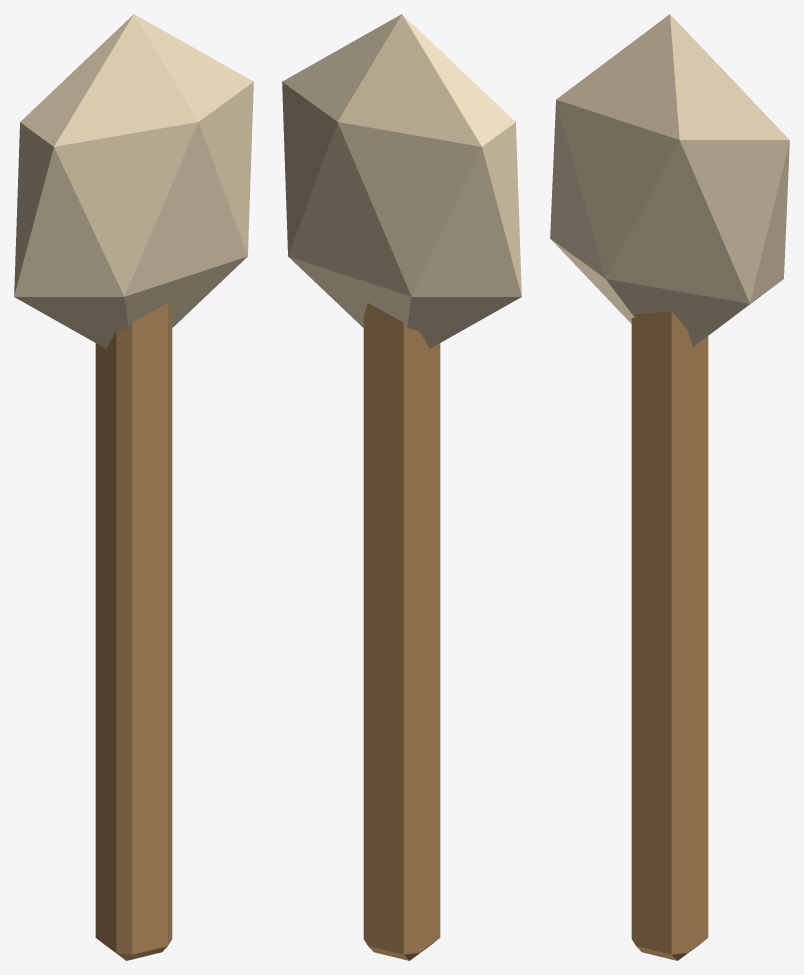
File: SM_CH_Paper_Utensil.fbx
The picture shows the model from 3 angles, left to right: view 1: azimuth 30°, elevation 25°; view 2: azimuth 150°, elevation 25°; view 3: azimuth 330°, elevation 25°; orthographic projection.
Parts seen in each view (by area): view 1: SM_CH_Paper_Utensil; view 2: SM_CH_Paper_Utensil; view 3: SM_CH_Paper_Utensil.
Boxes of the visible parts, <box> form: SM_CH_Paper_Utensil: <box>14,14,253,960</box>; SM_CH_Paper_Utensil: <box>282,14,521,960</box>; SM_CH_Paper_Utensil: <box>550,14,789,960</box>.
Bounding box in the file's own units: 2147 × 851 × 8000.
